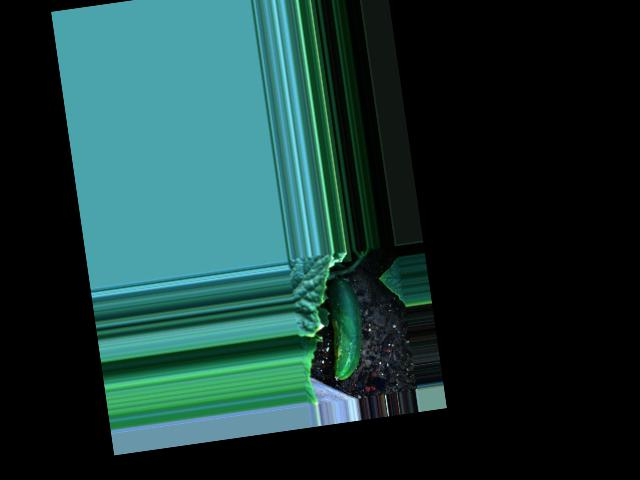cucumber: (320, 277, 369, 381)
